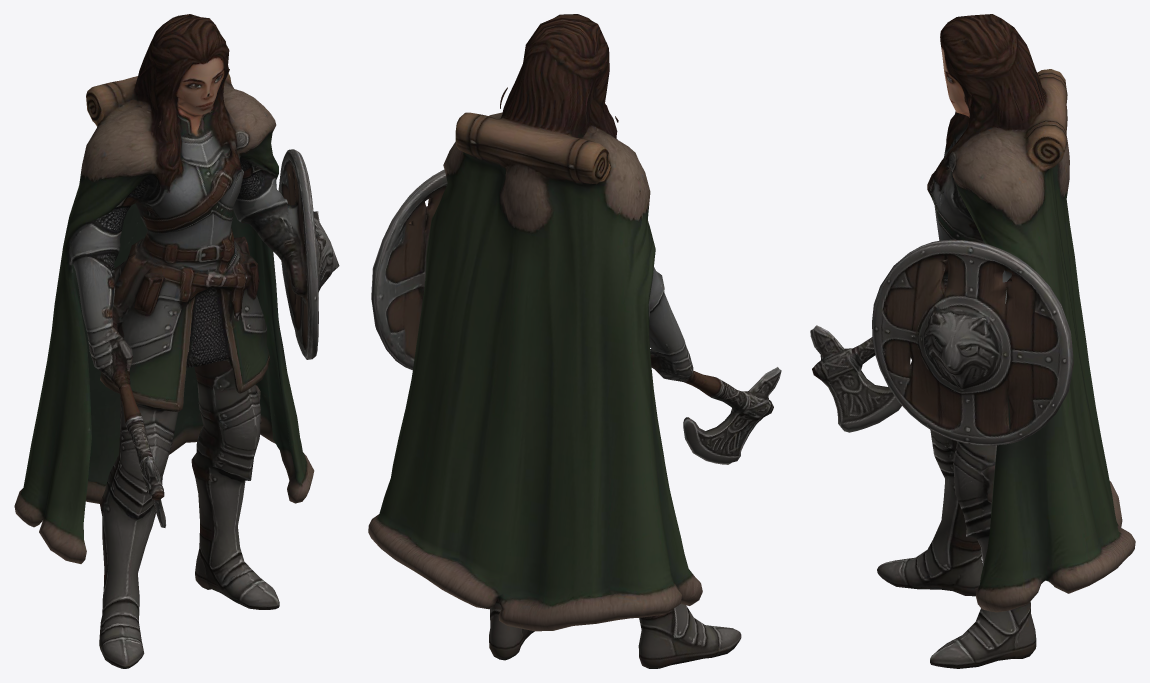
The model's file is Guerreira.glb.
The picture shows the model from 3 angles, left to right: view 1: azimuth 30°, elevation 25°; view 2: azimuth 150°, elevation 25°; view 3: azimuth 270°, elevation 25°; orthographic projection. The views are drawn at different scales.
Visible parts, largest first — view 1: tripo_node_495e2fd0-b35c-42af-9a50-6adc5211686f; view 2: tripo_node_495e2fd0-b35c-42af-9a50-6adc5211686f; view 3: tripo_node_495e2fd0-b35c-42af-9a50-6adc5211686f.
Part boxes in pixels (box(x1,y1,x2,y2)): tripo_node_495e2fd0-b35c-42af-9a50-6adc5211686f: box(14, 14, 339, 668); tripo_node_495e2fd0-b35c-42af-9a50-6adc5211686f: box(368, 14, 781, 668); tripo_node_495e2fd0-b35c-42af-9a50-6adc5211686f: box(810, 14, 1135, 668).
Size of the model in its own units: 0.492 by 0.9956 by 0.4764.
1 material, 1 textured.
